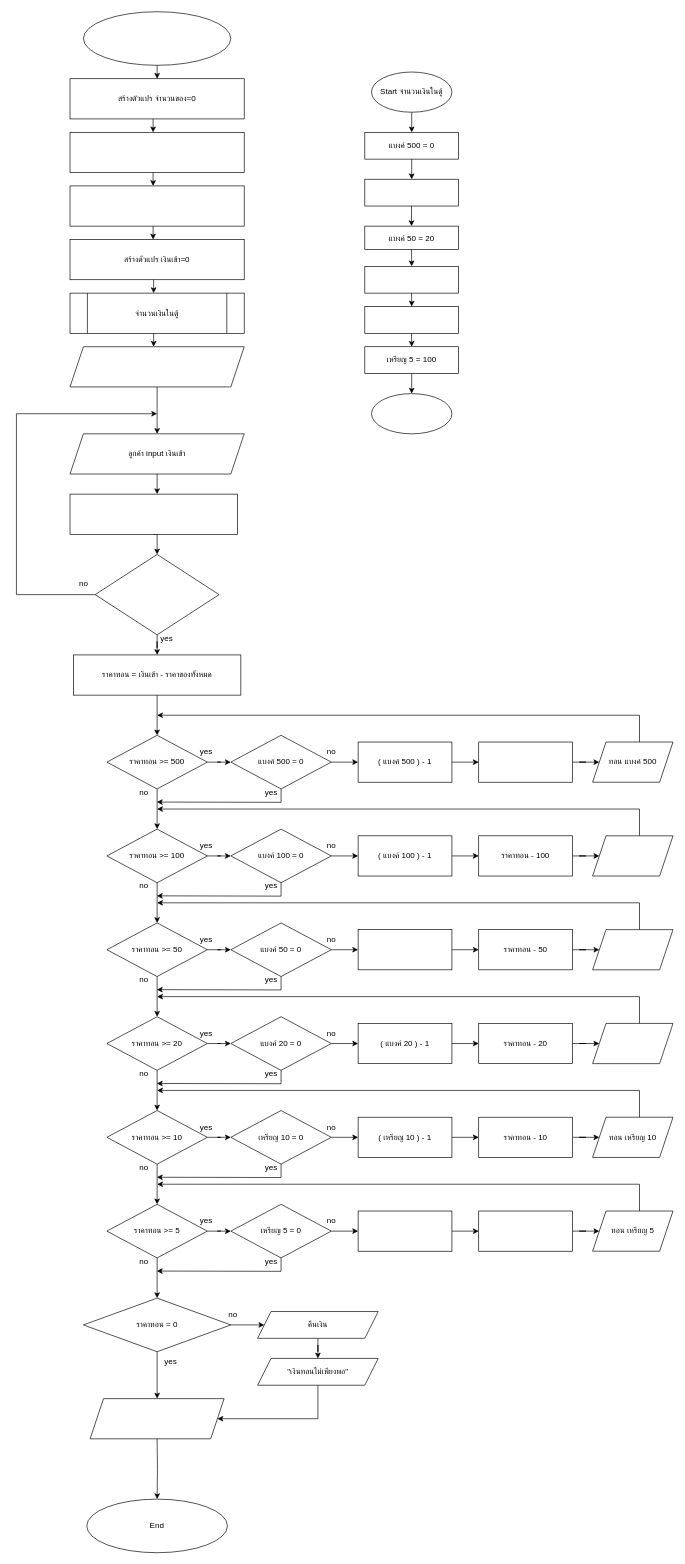
Image size: 685x1564. Some labels were removed from this diagram. The shapes that lost their labels are listed below. From the top down, each one's centre as x and y in pixels, then its label:
At (x=157, y=38): "Start".
At (x=156, y=152): "สร้างตัวแปร ราคาของทั้งหมด=0".
At (x=156, y=205): "สร้างตัวแปร ราคาทอน=0".
At (x=411, y=192): "แบงค์ 100 = 5".
At (x=411, y=279): "แบงค์ 20 = 10".
At (x=411, y=319): "เหรียญ 10 = 1000".
At (x=156, y=366): "ลูกค้า input จำนวนของ".
At (x=411, y=413): "End จำนวนเงินในตู้".
At (x=153, y=513): "ราคาของทั้งหมด = จำนวนของ * 45".
At (x=156, y=594): "เงินเข้า >= ราคาของทั้งหมด".
At (x=525, y=761): "ราคาทอน - 500".
At (x=632, y=855): "ทอน แบงค์ 100".
At (x=404, y=949): "( แบงค์ 50 ) - 1".
At (x=632, y=949): "ทอน แบงค์ 50".
At (x=632, y=1043): "ทอน แบงค์ 20".
At (x=404, y=1230): "( เหรียญ 5 ) - 1".
At (x=525, y=1230): "ราคาทอน - 5".
At (x=156, y=1418): "ให้ของลูกค้า".
